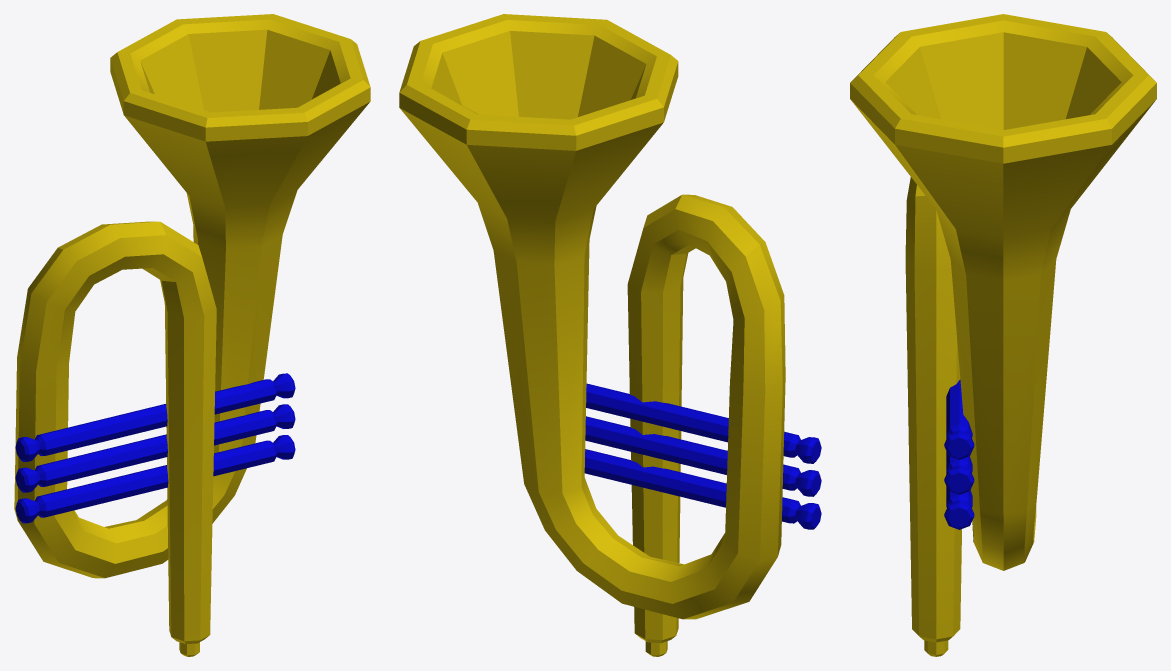
Rendered from Saxophone.FBX.
3 renders of one model, left to right at view 1: azimuth 30°, elevation 25°; view 2: azimuth 150°, elevation 25°; view 3: azimuth 270°, elevation 25°, orthographic. The views are drawn at different scales.
Visible parts, largest first — view 1: Saxophone; view 2: Saxophone; view 3: Saxophone.
Boxes of the visible parts, left/top/right/bottom form: Saxophone: left=14, top=14, right=370, bottom=656; Saxophone: left=399, top=14, right=821, bottom=656; Saxophone: left=850, top=14, right=1156, bottom=656.
Size of the model in its own units: 709 by 464 by 1041.
